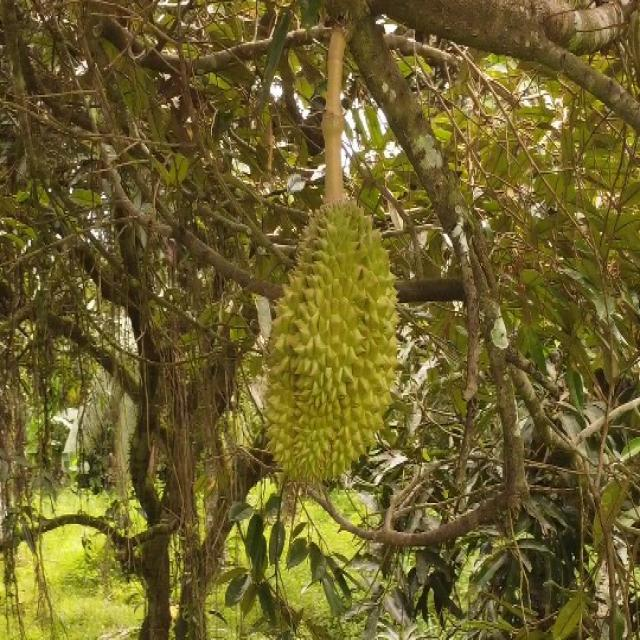immature: (262, 197, 400, 478)
